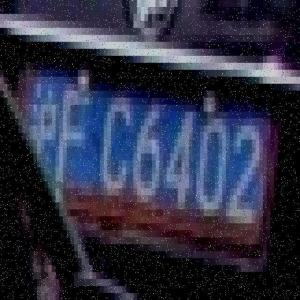Plate: (25, 45, 272, 265)
